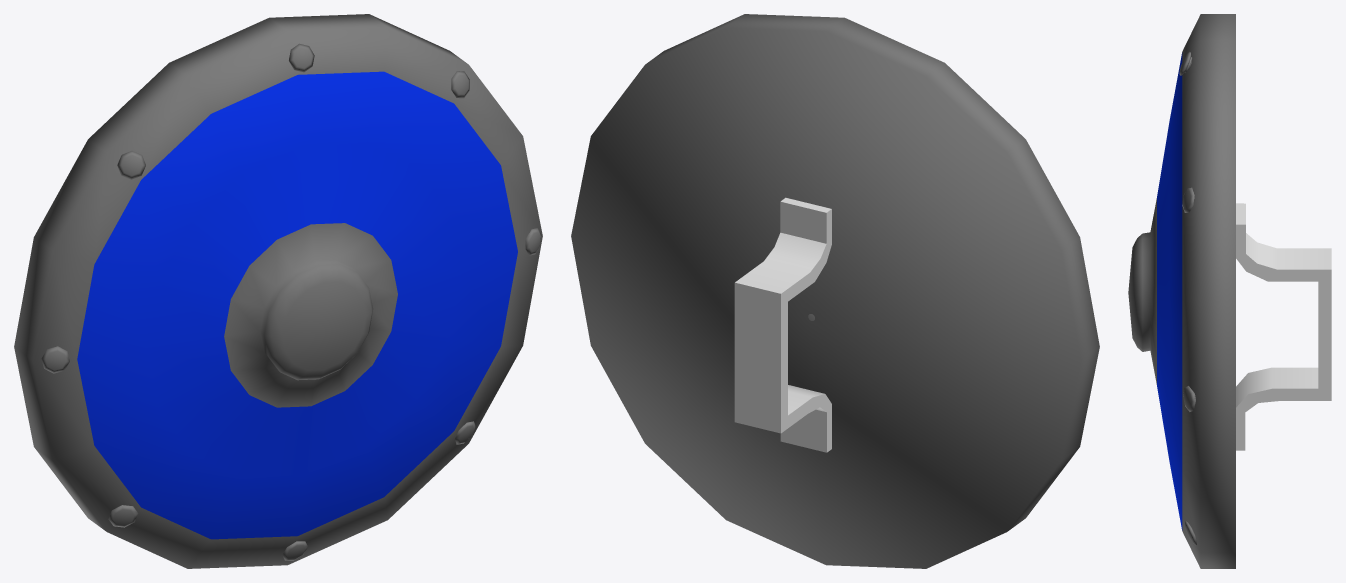
File: blueShieldOne.FBX
3 renders of one model, left to right at view 1: azimuth 30°, elevation 25°; view 2: azimuth 150°, elevation 25°; view 3: azimuth 270°, elevation 25°, orthographic. The views are drawn at different scales.
Parts seen in each view (by area): view 1: Teapot001; view 2: Teapot001, C-Ext001; view 3: Teapot001, C-Ext001.
Part boxes in pixels (bbox=[...]): Teapot001: bbox=[14, 14, 542, 568]; Teapot001: bbox=[571, 14, 1099, 568]; C-Ext001: bbox=[734, 197, 831, 452]; Teapot001: bbox=[1128, 14, 1235, 568]; C-Ext001: bbox=[1236, 203, 1331, 450].
Bounding box in the file's own units: 85.82 × 85.82 × 31.5.
